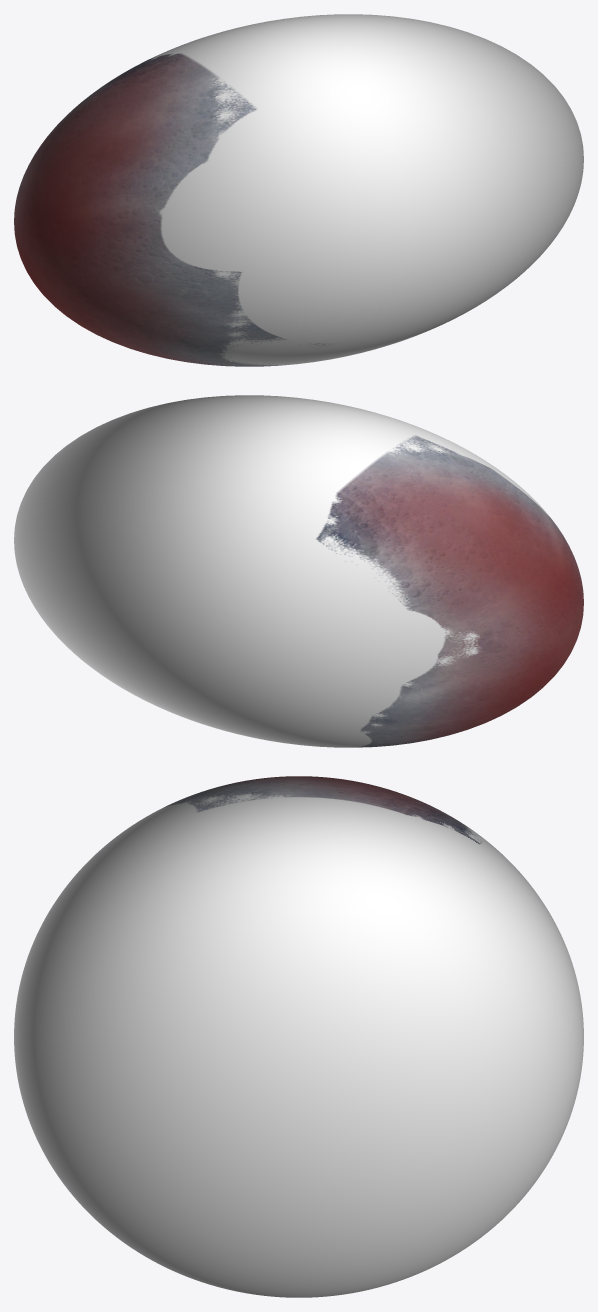
File: Haumea.fbx
3 views of the same model, one above another, from view 1: azimuth 30°, elevation 25°; view 2: azimuth 150°, elevation 25°; view 3: azimuth 270°, elevation 25° (orthographic). The views are drawn at different scales.
Parts seen in each view (by area): view 1: Haumea_Poles; view 2: Haumea_Poles; view 3: Haumea_Poles.
Part boxes in pixels (x1,y1,x2,y2): Haumea_Poles: [14, 14, 583, 366]; Haumea_Poles: [14, 395, 583, 747]; Haumea_Poles: [14, 776, 583, 1297].
Bounding box in the file's own units: 0.0987 × 0.0516 × 0.0684.
Materials: 2 (1 with a texture image).
